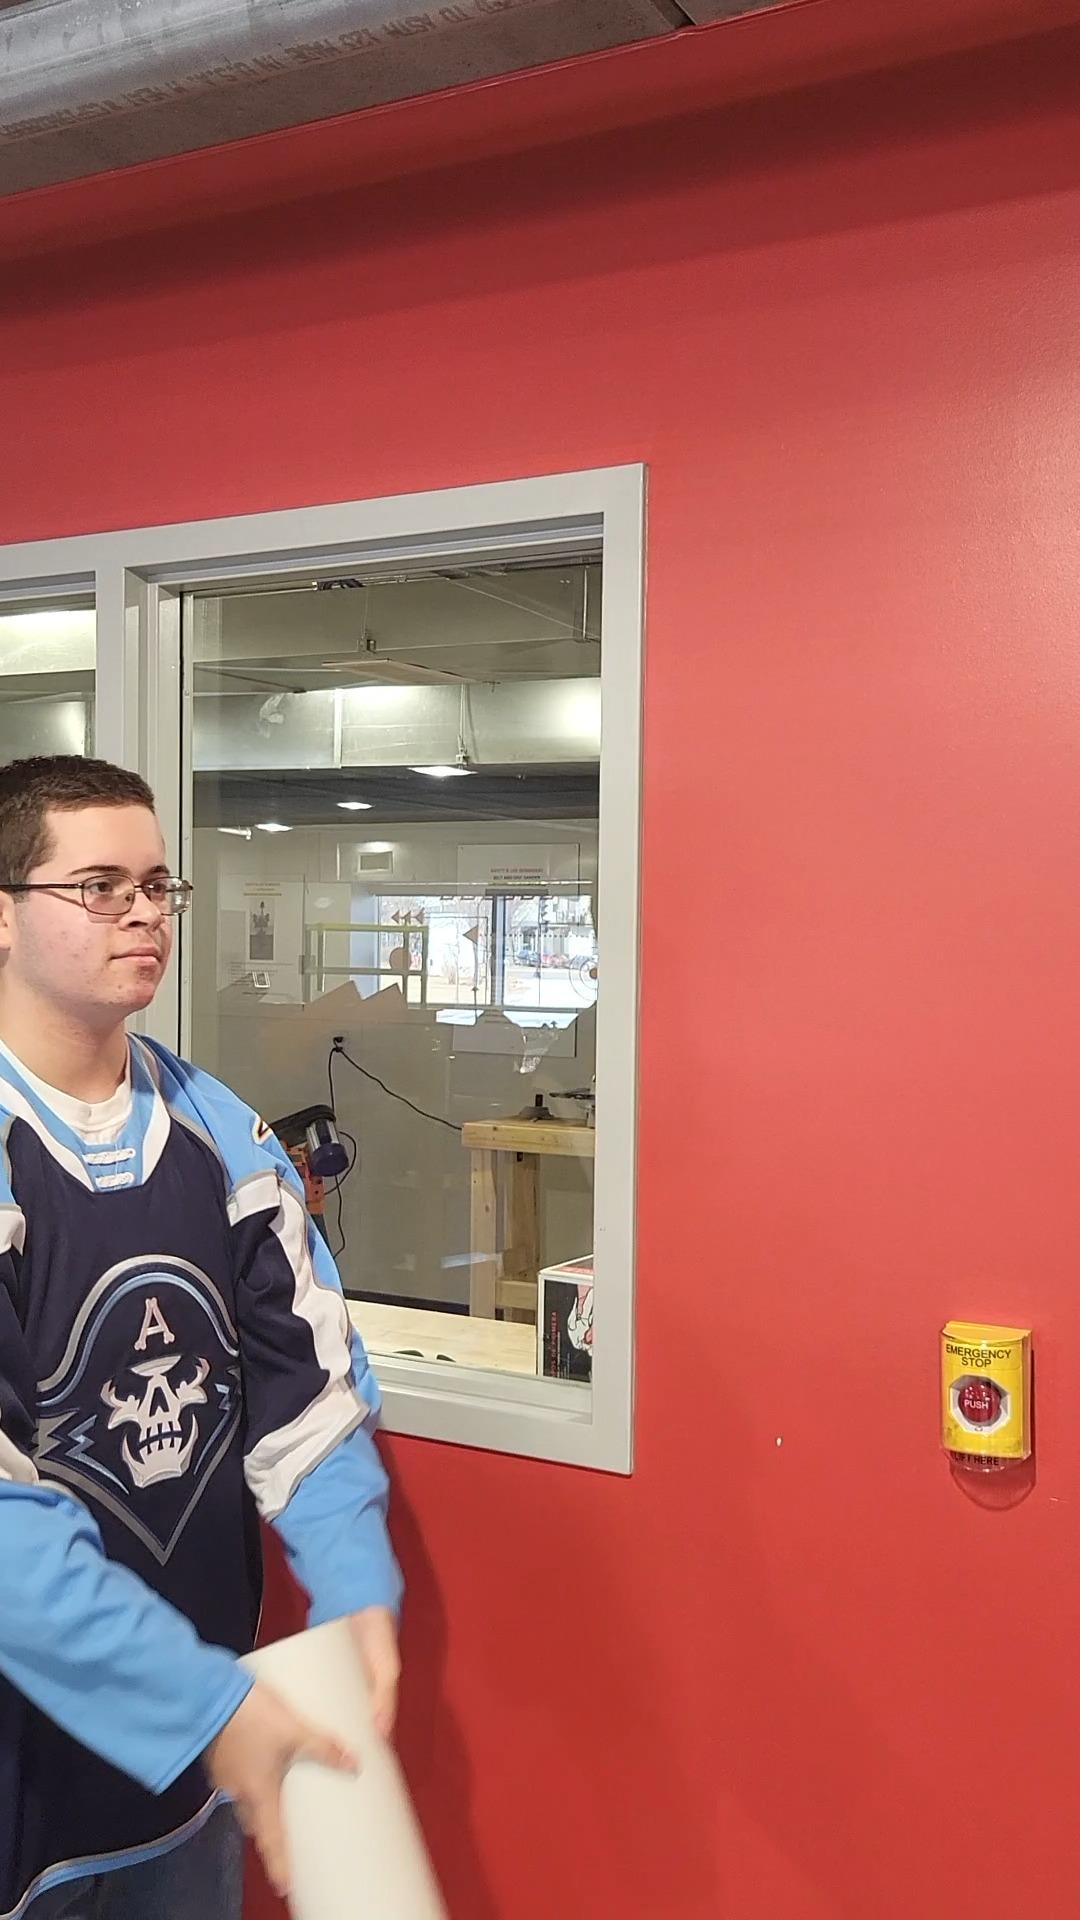coral: (220, 1610, 454, 1920)
